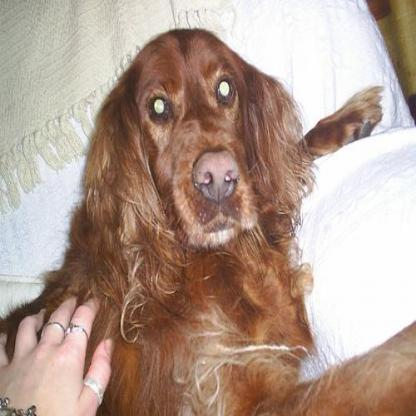Irish_setter: (0, 25, 414, 414)
